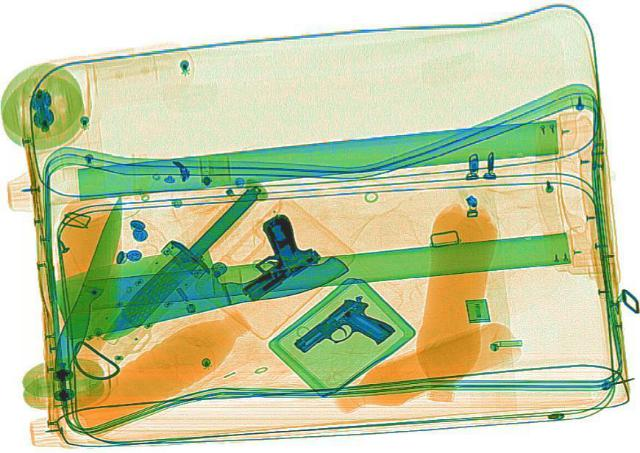Gun: (194, 210, 336, 301), (287, 292, 407, 371)
Knife: (35, 218, 355, 341), (91, 180, 277, 345), (46, 195, 136, 366)
